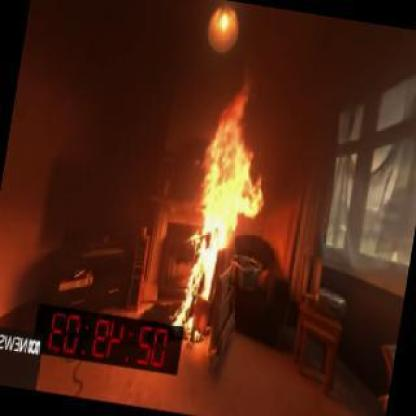Fire: (169, 69, 278, 331)
